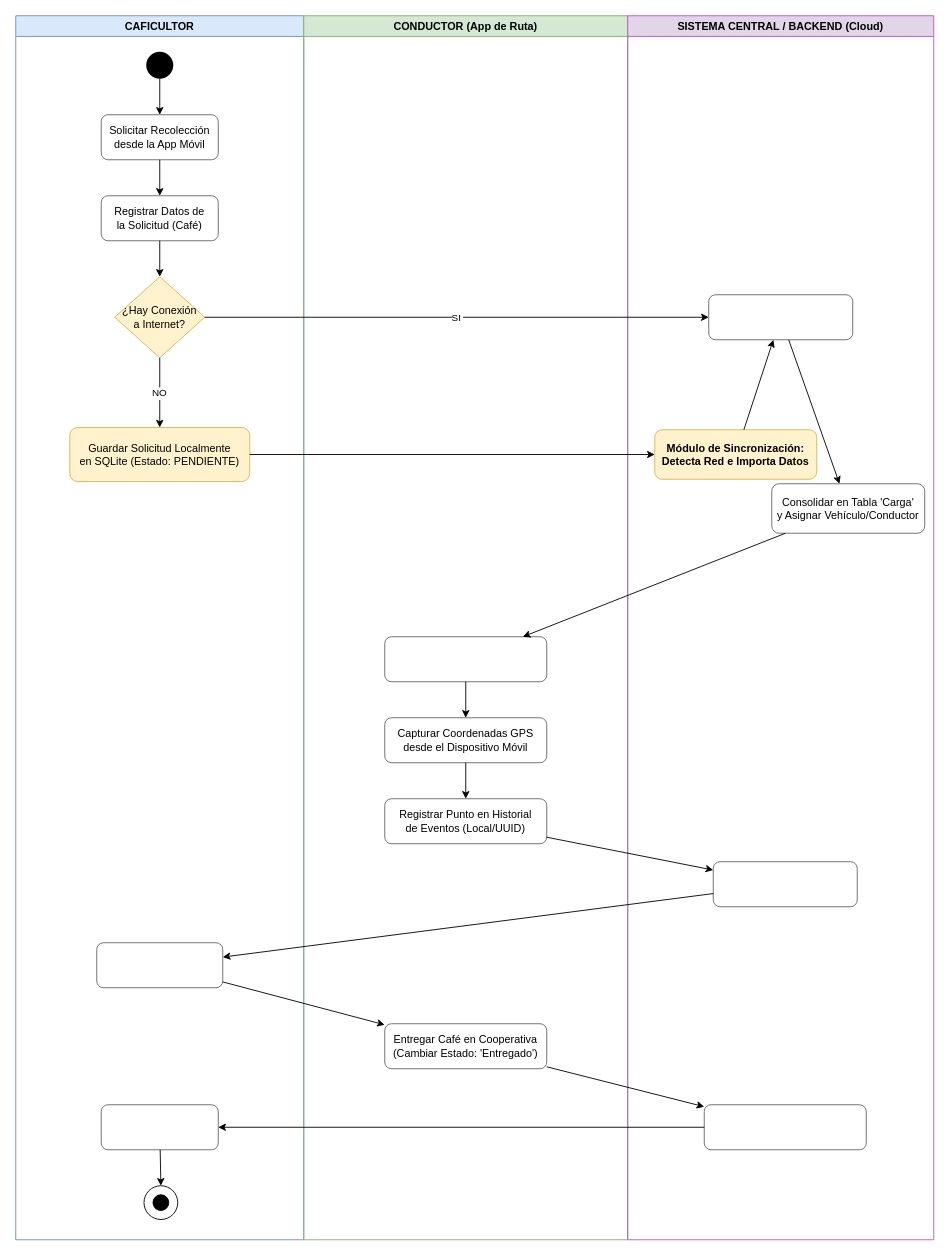
The diagram is 950 pixels wide and 1256 high, and some of its shapes have lost their labels. Each missing label, with the centre of its shape:
Actualizar Ubicación GPS en PostgreSQL en la Nube: point (784, 884)
Iniciar Ruta de Transporte (Cambiar Estado: 'En camino'): point (465, 659)
Procesar Entrega y Actualizar Dashboard Gerencial Web: point (784, 1127)
Recibir Notificación de Entrega Exitosa: point (159, 1127)
Recibir y Validar Solicitud (Generar UUID global): point (780, 317)
Visualizar Mapa con Ubicación del Camión: point (159, 965)
